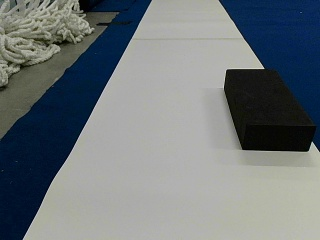block: (223, 69, 316, 151)
